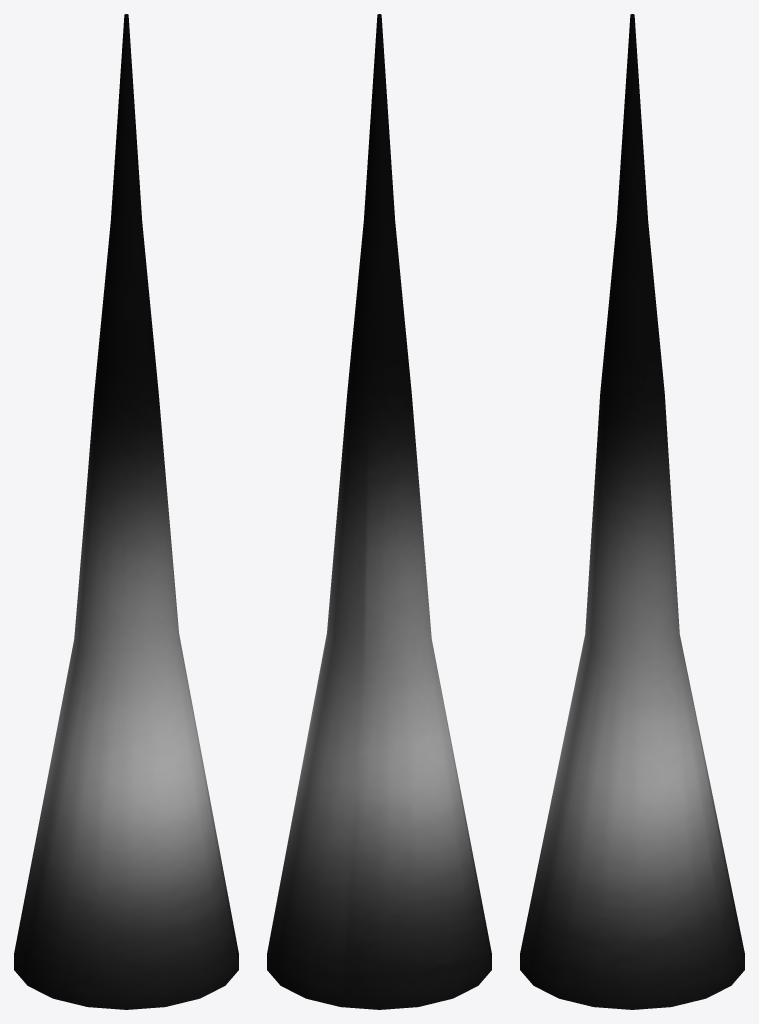
Rendered from RainCone.FBX.
The picture shows the model from 3 angles, left to right: view 1: azimuth 30°, elevation 25°; view 2: azimuth 150°, elevation 25°; view 3: azimuth 270°, elevation 25°; orthographic projection.
Visible parts, largest first — view 1: RainCone; view 2: RainCone; view 3: RainCone.
Boxes of the visible parts, <box> form: RainCone: <box>14,14,238,1009</box>; RainCone: <box>267,14,491,1009</box>; RainCone: <box>520,14,744,1009</box>.
Size of the model in its own units: 1123 by 5141 by 1106.
Materials: 1 (1 with a texture image).
